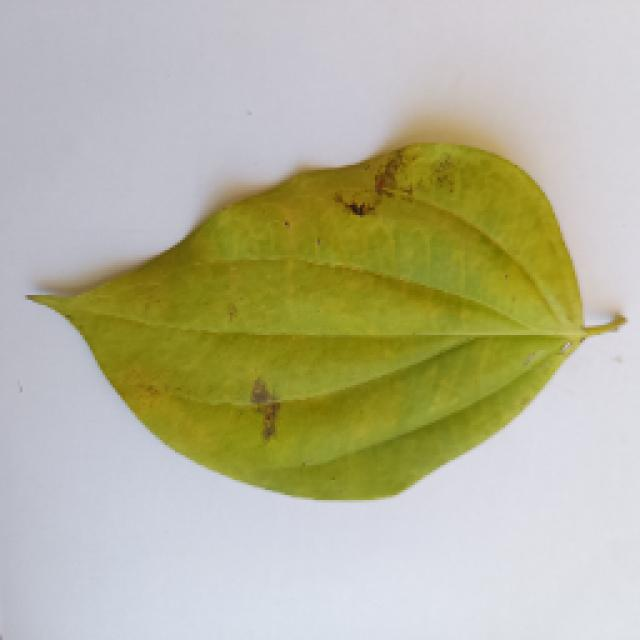slow-decline: (15, 127, 627, 615)
